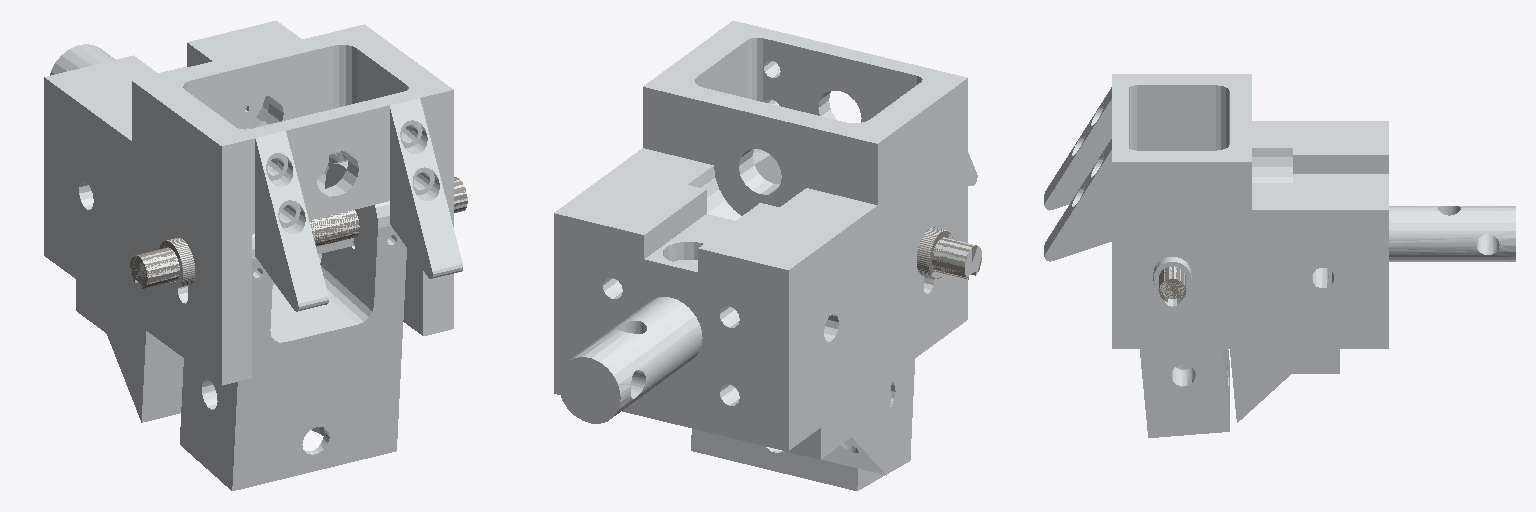
URDF robot description (knee_assembly_v1):
<?xml version="1.0" encoding="utf-8"?>
<!-- This URDF was automatically created by SolidWorks to URDF Exporter! Originally created by [author] ([email redacted]) 
     Commit Version: 1.5.1-0-g916b5db  Build Version: 1.5.7152.31018
     For more information, please see http://wiki.ros.org/sw_urdf_exporter -->
<robot
  name="knee_assembly_v1">
  <link
    name="frame_coupler_link">
    <inertial>
      <origin
        xyz="-3.22622082853156E-07 0.0848001065827293 -0.00150034104856598"
        rpy="0 0 0" />
      <mass
        value="0.0581528661884124" />
      <inertia
        ixx="3.20161873569054E-05"
        ixy="9.86814976387171E-11"
        ixz="7.76409608763038E-13"
        iyy="3.17192552300559E-06"
        iyz="2.13732470736594E-10"
        izz="3.20161873538291E-05" />
    </inertial>
    <visual>
      <origin
        xyz="0 0 0"
        rpy="0 0 0" />
      <geometry>
        <mesh
          filename="package://knee_assembly_v1/meshes/frame_coupler_link.STL" />
      </geometry>
      <material
        name="">
        <color
          rgba="0.898039215686275 0.917647058823529 0.929411764705882 1" />
      </material>
    </visual>
    <collision>
      <origin
        xyz="0 0 0"
        rpy="0 0 0" />
      <geometry>
        <mesh
          filename="package://knee_assembly_v1/meshes/frame_coupler_link.STL" />
      </geometry>
    </collision>
  </link>
  <link
    name="upper_leg_link">
    <inertial>
      <origin
        xyz="-6.97918693691592E-08 0.0381088504770922 -0.000167786029450245"
        rpy="0 0 0" />
      <mass
        value="0.904457613867618" />
      <inertia
        ixx="0.000508840724317799"
        ixy="4.10936685711496E-10"
        ixz="-5.59758128401379E-10"
        iyy="0.000814363886309135"
        iyz="9.82828474764349E-06"
        izz="0.000760381278491367" />
    </inertial>
    <visual>
      <origin
        xyz="0 0 0"
        rpy="0 0 0" />
      <geometry>
        <mesh
          filename="package://knee_assembly_v1/meshes/upper_leg_link.STL" />
      </geometry>
      <material
        name="">
        <color
          rgba="0.898039215686275 0.917647058823529 0.929411764705882 1" />
      </material>
    </visual>
    <collision>
      <origin
        xyz="0 0 0"
        rpy="0 0 0" />
      <geometry>
        <mesh
          filename="package://knee_assembly_v1/meshes/upper_leg_link.STL" />
      </geometry>
    </collision>
  </link>
  <joint
    name="upper_leg_fixed_joint"
    type="fixed">
    <origin
      xyz="0 0 0"
      rpy="0 0 0" />
    <parent
      link="frame_coupler_link" />
    <child
      link="upper_leg_link" />
    <axis
      xyz="0 0 0" />
  </joint>
  <link
    name="upper_leg_shaft_link">
    <inertial>
      <origin
        xyz="1.18584612615602E-19 -0.000345086564960897 0.00267456751967088"
        rpy="0 0 0" />
      <mass
        value="0.0641400223810744" />
      <inertia
        ixx="5.49019055050818E-05"
        ixy="0"
        ixz="-3.58379341683968E-22"
        iyy="5.49939900533223E-05"
        iyz="-6.39986064257453E-21"
        izz="8.58273871986064E-07" />
    </inertial>
    <visual>
      <origin
        xyz="0 0 0"
        rpy="0 0 0" />
      <geometry>
        <mesh
          filename="package://knee_assembly_v1/meshes/upper_leg_shaft_link.STL" />
      </geometry>
      <material
        name="">
        <color
          rgba="0.650980392156863 0.619607843137255 0.588235294117647 1" />
      </material>
    </visual>
    <collision>
      <origin
        xyz="0 0 0"
        rpy="0 0 0" />
      <geometry>
        <mesh
          filename="package://knee_assembly_v1/meshes/upper_leg_shaft_link.STL" />
      </geometry>
    </collision>
  </link>
  <joint
    name="upper_leg_shaft_revolute_joint"
    type="revolute">
    <origin
      xyz="0 0 0"
      rpy="-1.5708 -0.087266 1.5708" /> <!-- alt: "-1.5708 0.087266 -1.5708"  w/ axis="0 0 -1" -->
    <parent
      link="upper_leg_link" />
    <child
      link="upper_leg_shaft_link" />
    <axis
      xyz="0 0 1" />
    <limit
      lower="0"
      upper="1.308"
      effort="250"
      velocity="1.308" />
  </joint>
  <link
    name="shaft_lower_leg_link">
    <inertial>
      <origin
        xyz="-3.19966210991784E-09 -0.0261363494785464 1.28240717817516E-09"
        rpy="0 0 0" />
      <mass
        value="0.267461835965857" />
      <inertia
        ixx="0.000225232915020607"
        ixy="-1.63048021781679E-11"
        ixz="4.07029121087144E-12"
        iyy="0.0001453649154111"
        iyz="7.80927296887539E-12"
        izz="0.000114898683107458" />
    </inertial>
    <visual>
      <origin
        xyz="0 0 0"
        rpy="0 0 0" />
      <geometry>
        <mesh
          filename="package://knee_assembly_v1/meshes/shaft_lower_leg_link.STL" />
      </geometry>
      <material
        name="">
        <color
          rgba="0.898039215686275 0.917647058823529 0.929411764705882 1" />
      </material>
    </visual>
    <collision>
      <origin
        xyz="0 0 0"
        rpy="0 0 0" />
      <geometry>
        <mesh
          filename="package://knee_assembly_v1/meshes/shaft_lower_leg_link.STL" />
      </geometry>
    </collision>
  </link>
  <joint
    name="shaft_lower_leg_fixed_joint"
    type="fixed">
    <origin
      xyz="0 0 0"
      rpy="0 0 3.1416" />
    <parent
      link="upper_leg_shaft_link" />
    <child
      link="shaft_lower_leg_link" />
    <axis
      xyz="0 0 0" />
  </joint>

  <transmission name="upper_leg_shaft_revolute_joint_trans">
    <type>transmission_interface/SimpleTransmission</type>
    <joint name="upper_leg_shaft_revolute_joint">
        <hardwareInterface>hardware_interface/PositionJointInterface</hardwareInterface>
    </joint>
    <actuator name="upper_leg_shaft_revolute_joint_motor">
        <mechanicalReduction>1</mechanicalReduction>
        <hardwareInterface>hardware_interface/PositionJointInterface</hardwareInterface>
    </actuator>
 </transmission>

  <gazebo>
    <plugin name="gazebo_ros_control" filename="libgazebo_ros_control.so">
      <robotNamespace>/</robotNamespace>
    </plugin>
  </gazebo>
</robot>

--- What the picture shows (computed from the rendered views, not written in the file) ---
Views: 3 orthographic renders of the robot side by side, from view 1: azimuth 30°, elevation 25°; view 2: azimuth 150°, elevation 25°; view 3: azimuth 270°, elevation 25°.
Model knee_assembly_v1 with 4 links and 3 joints (1 revolute, 2 fixed), rooted at frame_coupler_link, posed all joints at 0.
Links seen in each view (by area): view 1: upper_leg_link, shaft_lower_leg_link, upper_leg_shaft_link, frame_coupler_link; view 2: upper_leg_link, frame_coupler_link, shaft_lower_leg_link, upper_leg_shaft_link; view 3: upper_leg_link, shaft_lower_leg_link, frame_coupler_link, upper_leg_shaft_link.
Boxes of the visible links, x1,y1,x2,y2 form: upper_leg_link: (44, 21, 462, 422); shaft_lower_leg_link: (130, 160, 467, 490); upper_leg_shaft_link: (130, 177, 467, 288); frame_coupler_link: (50, 44, 115, 75); upper_leg_link: (554, 21, 977, 475); frame_coupler_link: (558, 297, 702, 423); shaft_lower_leg_link: (691, 149, 981, 490); upper_leg_shaft_link: (917, 227, 981, 279); upper_leg_link: (1044, 74, 1388, 422); shaft_lower_leg_link: (1140, 266, 1229, 437); frame_coupler_link: (1389, 206, 1515, 261); upper_leg_shaft_link: (1159, 266, 1185, 301).
Size in the robot's own frame: 0.105 by 0.1714 by 0.116 metres.
Meshes: 4 distinct files referenced, 4 mesh visuals loaded (4 binary STL).
